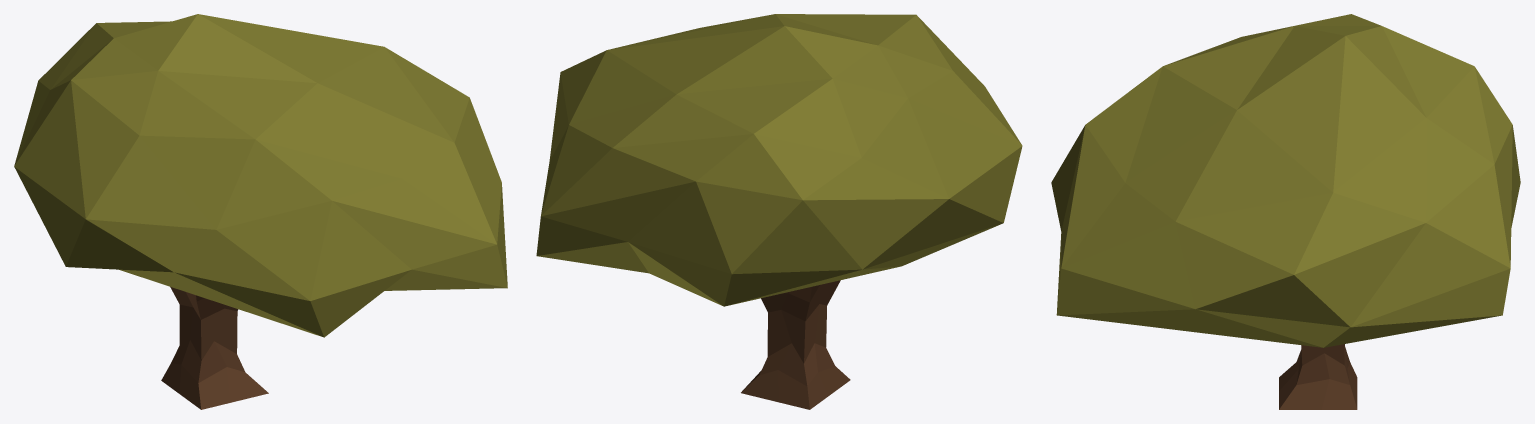
File: Tree_29_Yellow.fbx
3 views of the same model, side by side, from view 1: azimuth 30°, elevation 25°; view 2: azimuth 150°, elevation 25°; view 3: azimuth 270°, elevation 25° (orthographic). The views are drawn at different scales.
Parts seen in each view (by area): view 1: Tree_29_Yellow_Part_1, Tree_29_Yellow_Part_2; view 2: Tree_29_Yellow_Part_1, Tree_29_Yellow_Part_2; view 3: Tree_29_Yellow_Part_1, Tree_29_Yellow_Part_2.
Boxes of the visible parts, left/top/right/bottom form: Tree_29_Yellow_Part_1: left=14, top=14, right=507, bottom=337; Tree_29_Yellow_Part_2: left=161, top=287, right=268, bottom=409; Tree_29_Yellow_Part_1: left=536, top=14, right=1022, bottom=306; Tree_29_Yellow_Part_2: left=741, top=280, right=850, bottom=409; Tree_29_Yellow_Part_1: left=1051, top=14, right=1520, bottom=347; Tree_29_Yellow_Part_2: left=1279, top=344, right=1357, bottom=409.
Size of the model in its own units: 821 by 681 by 813.
